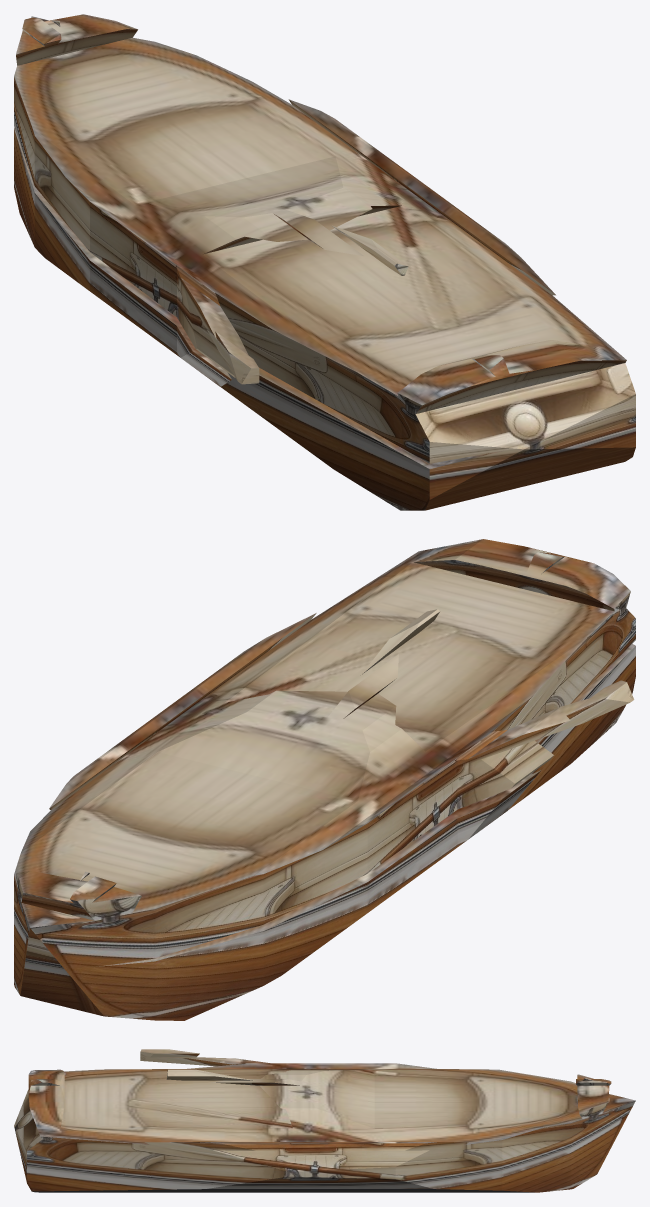
File: rowboat_dinghy.glb
The picture shows the model from 3 angles, top to bottom: view 1: azimuth 30°, elevation 25°; view 2: azimuth 150°, elevation 25°; view 3: azimuth 270°, elevation 25°; orthographic projection. The views are drawn at different scales.
Parts seen in each view (by area): view 1: rowboat_dinghy; view 2: rowboat_dinghy; view 3: rowboat_dinghy.
Part boxes in pixels (x1,y1,x2,y2): rowboat_dinghy: (14, 14, 635, 510); rowboat_dinghy: (14, 539, 635, 1020); rowboat_dinghy: (14, 1049, 635, 1192).
Size of the model in its own units: 1.33 by 0.6581 by 3.5.
2 materials, 1 textured.
